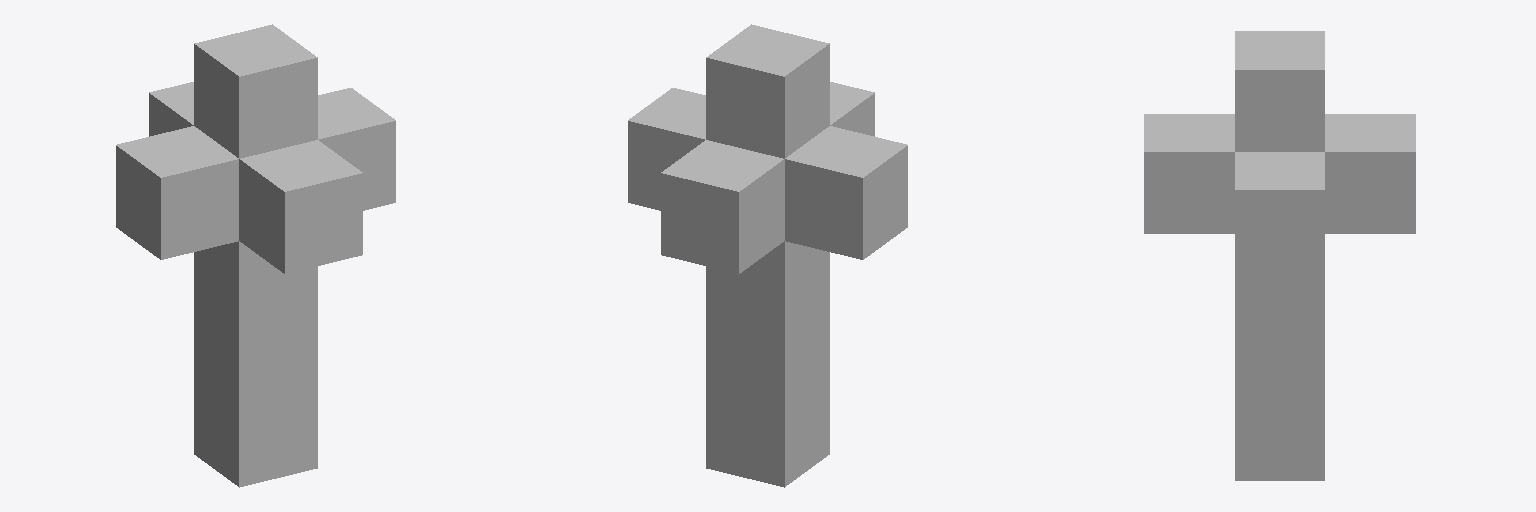
File: tree.obj
3 renders of one model, left to right at view 1: azimuth 30°, elevation 25°; view 2: azimuth 150°, elevation 25°; view 3: azimuth 270°, elevation 25°, orthographic.
Visible parts, largest first — view 1: root; view 2: root; view 3: root.
Part boxes in pixels (x1,y1,x2,y2): root: (116,24,395,487); root: (628,24,907,487); root: (1144,31,1415,480).
Bounding box in the file's own units: 0.3 × 0.5 × 0.3.